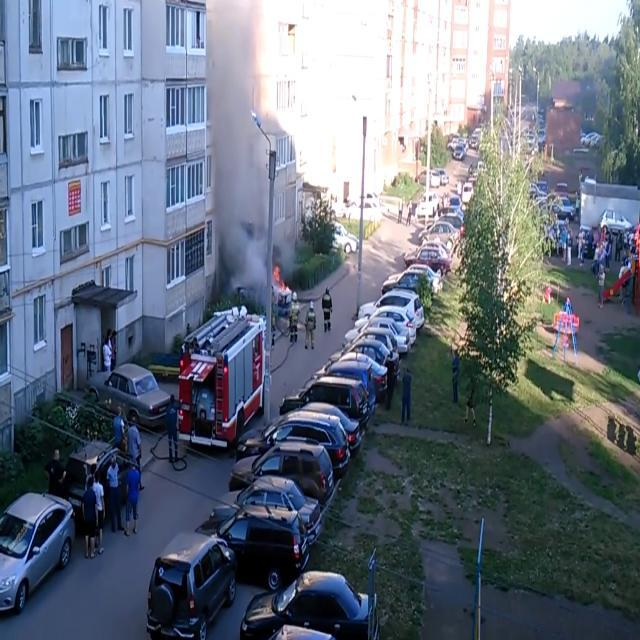Smoke: (202, 0, 290, 309)
